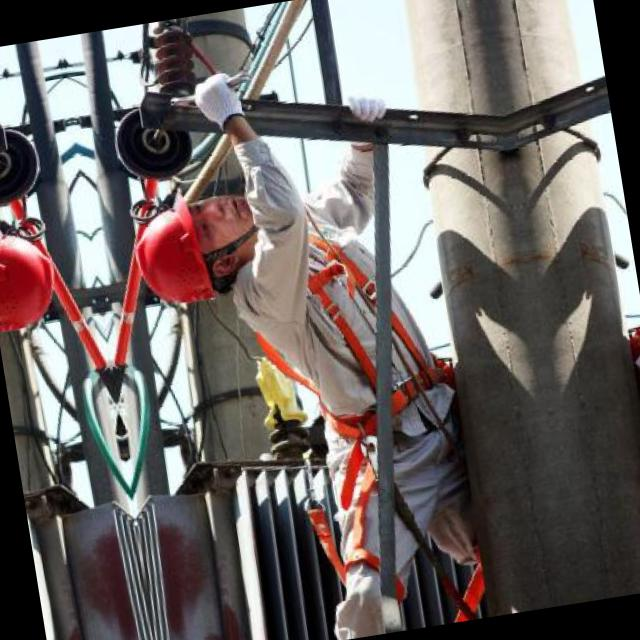helmet: (111, 184, 290, 310), (0, 218, 79, 332)
